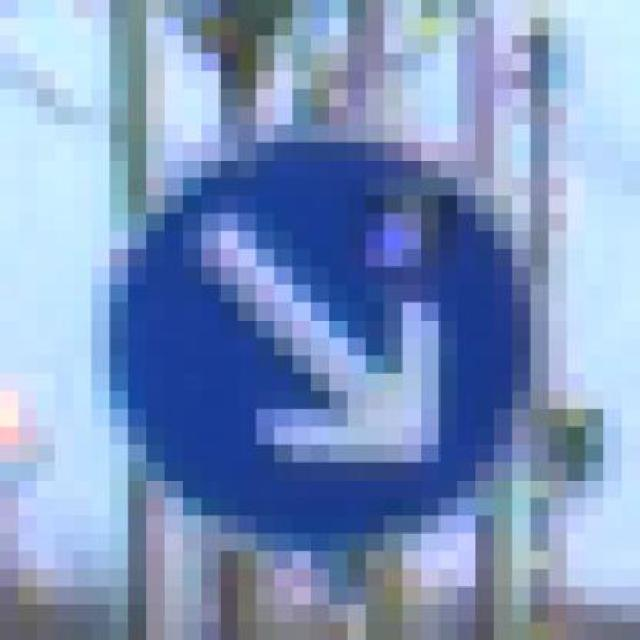Keep-Right: (92, 107, 586, 587)
